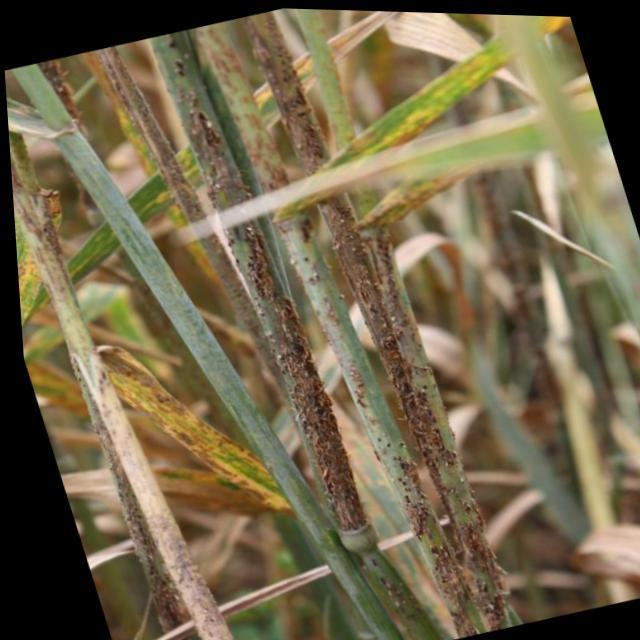Stem Rust: (215, 192, 498, 640)
